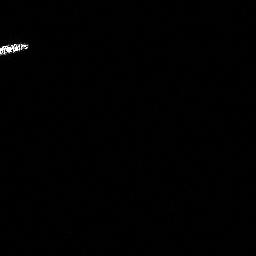ship: (1, 38, 31, 57)
